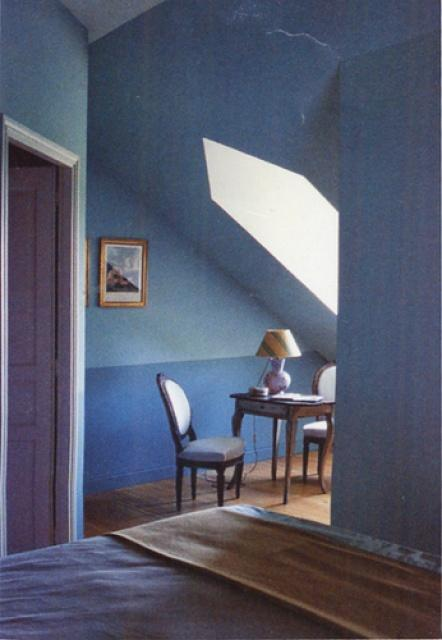Kursi: (155, 371, 245, 510)
Meja: (228, 390, 333, 438)
